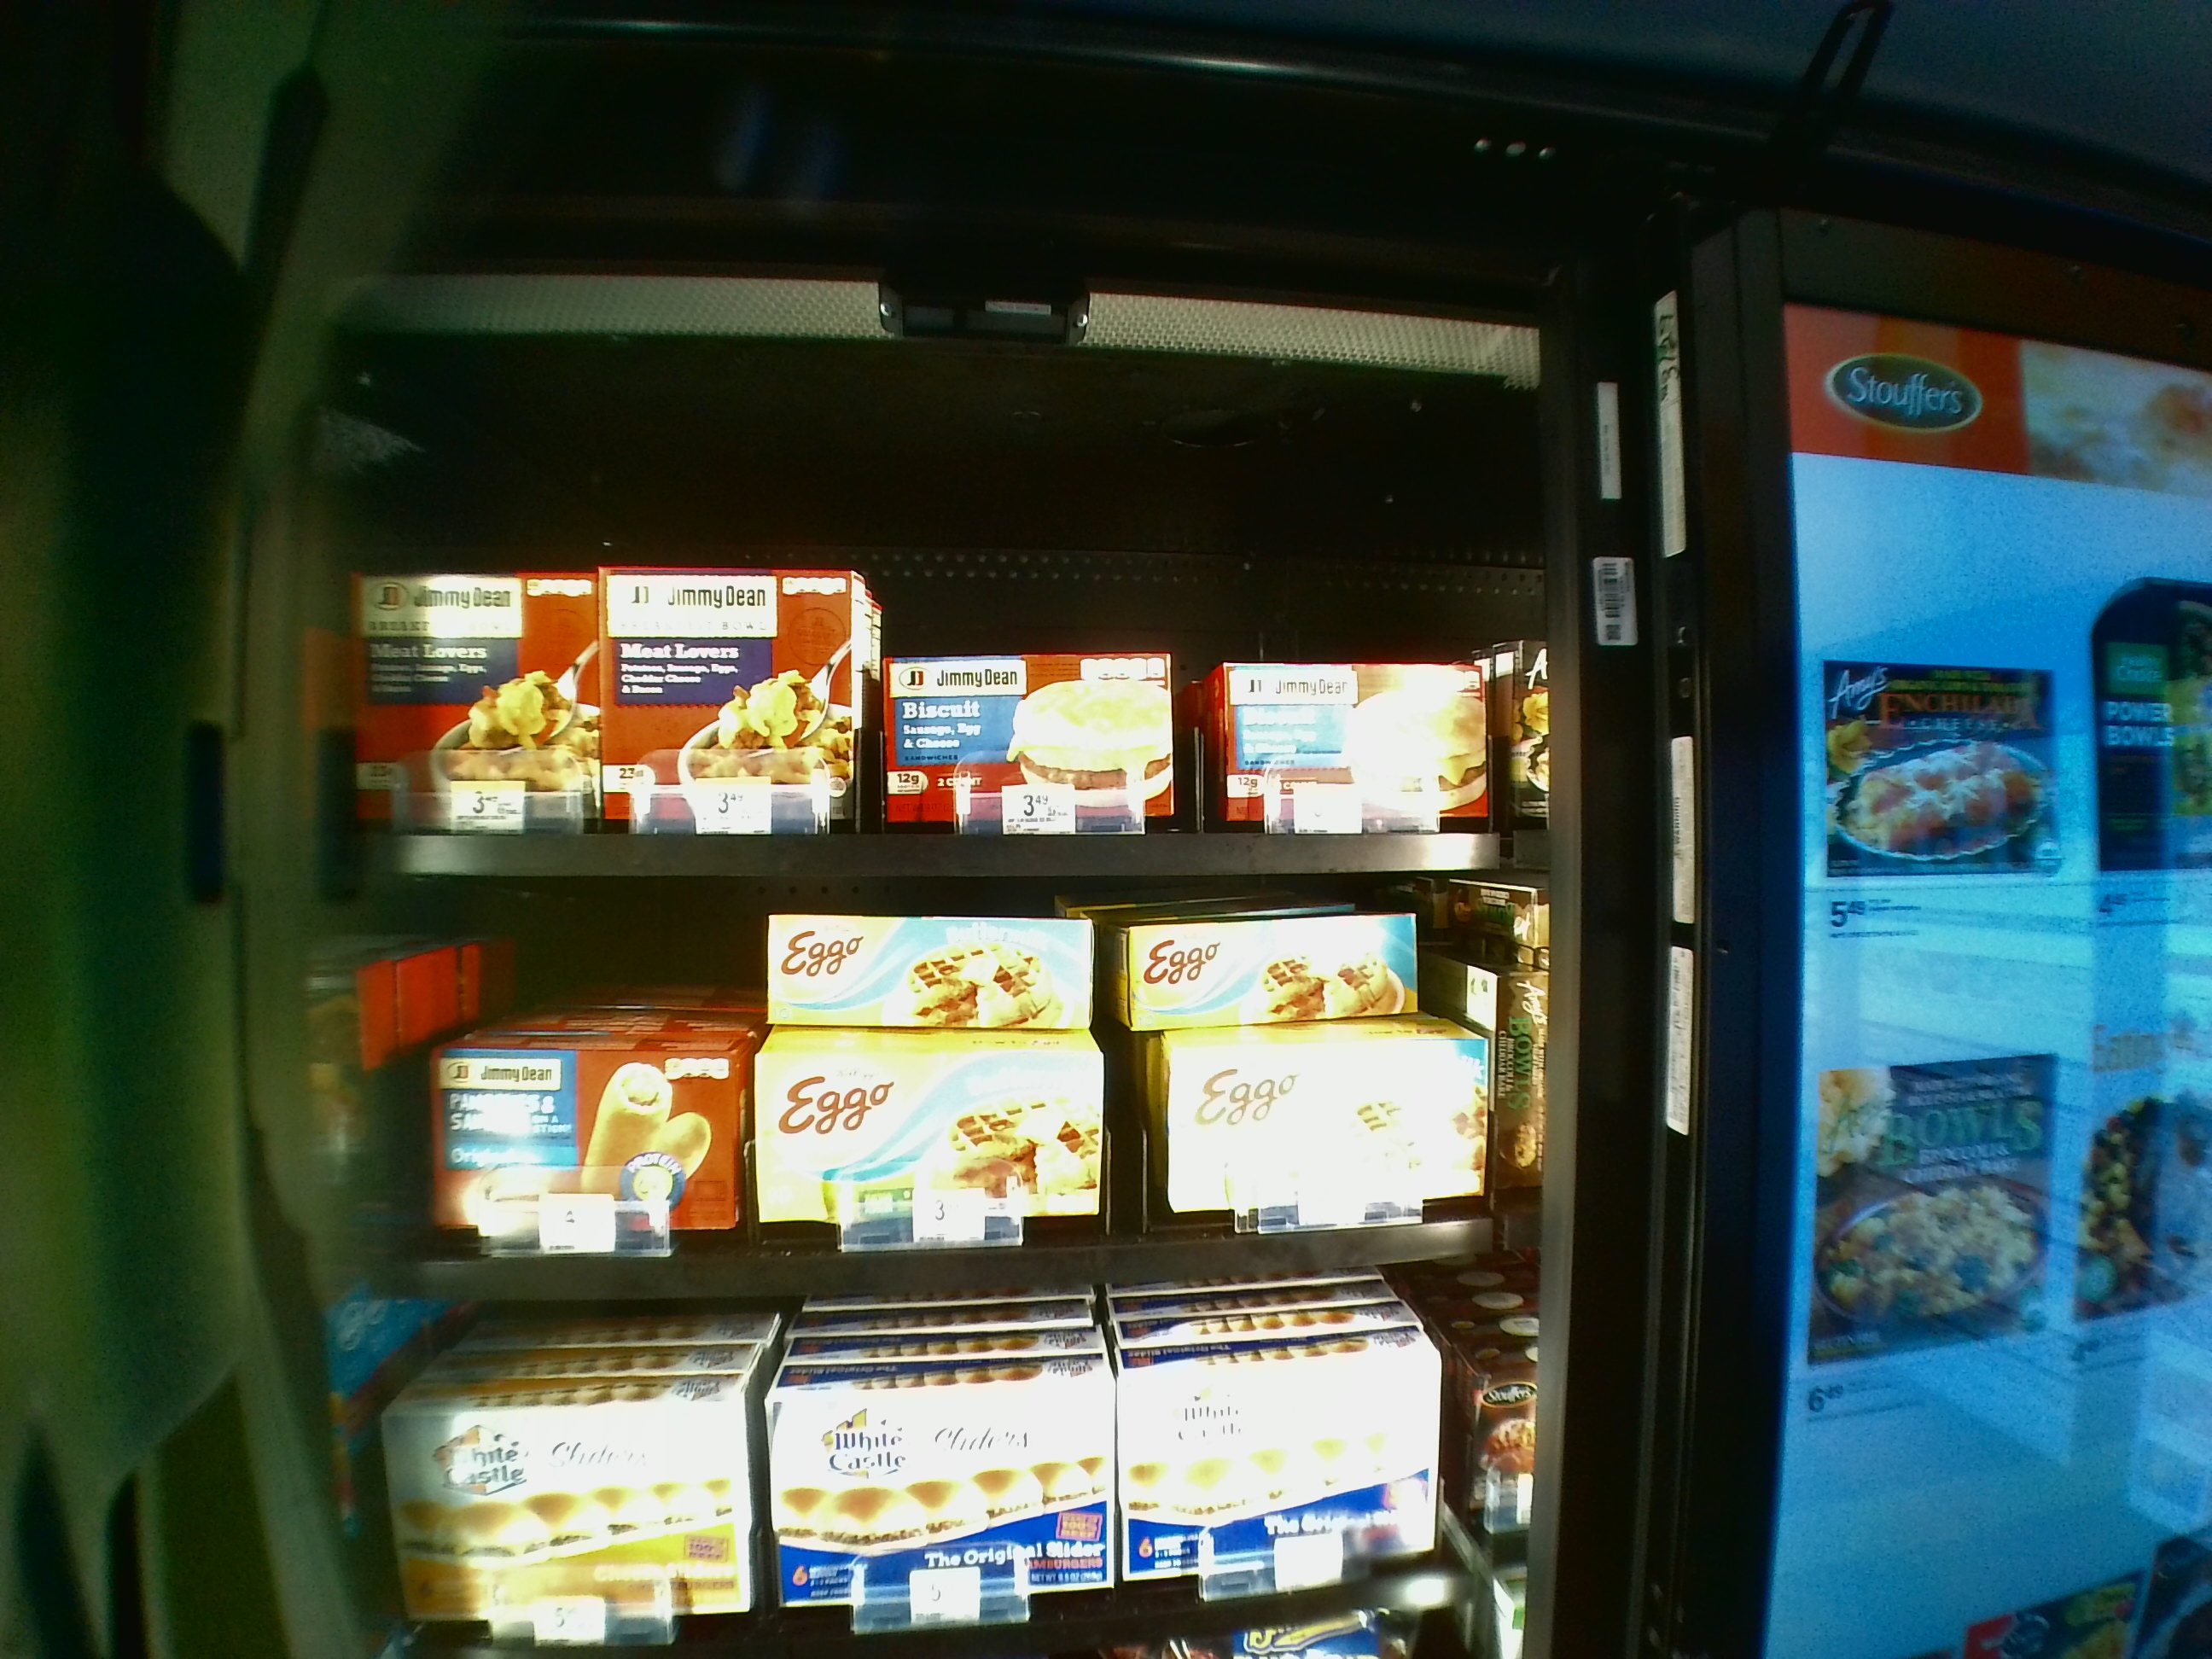shelf: (331, 390, 1526, 877), (324, 892, 1536, 1293)
